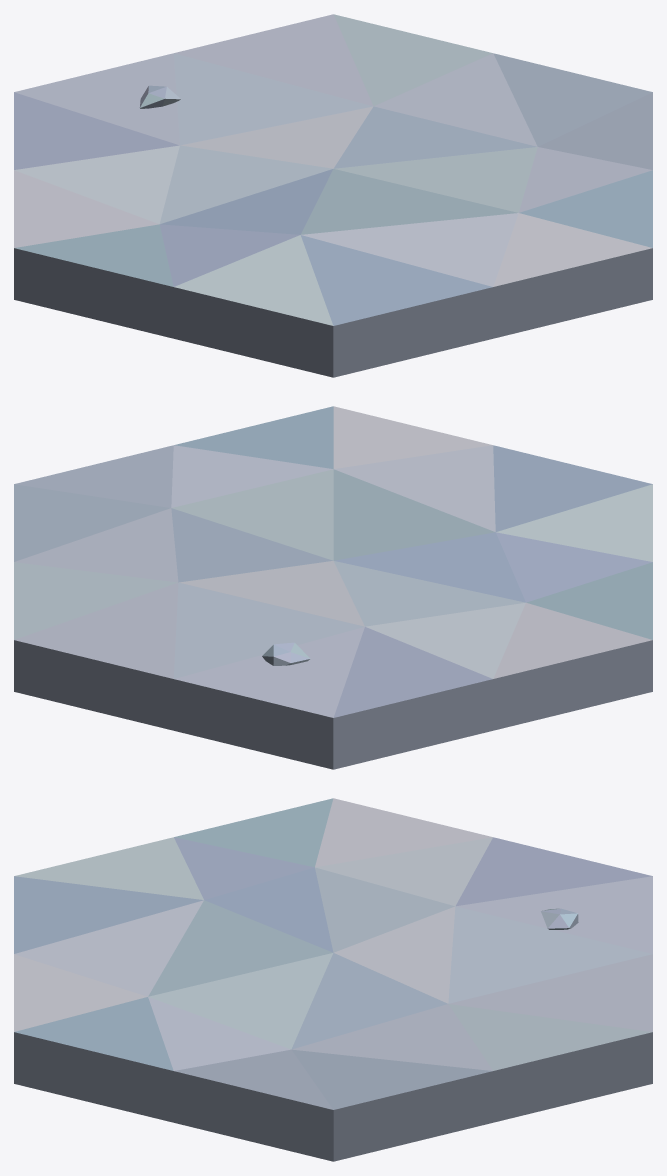
The model's file is Snow-Far.glb.
3 views of the same model, one above another, from view 1: azimuth 30°, elevation 25°; view 2: azimuth 150°, elevation 25°; view 3: azimuth 270°, elevation 25° (orthographic).
Visible parts, largest first — view 1: Snow-Far; view 2: Snow-Far; view 3: Snow-Far.
Boxes of the visible parts, x1,y1,x2,y2 form: Snow-Far: [14, 14, 652, 377]; Snow-Far: [14, 406, 652, 769]; Snow-Far: [14, 798, 652, 1161].
Size of the model in its own units: 1.94 by 0.1896 by 1.68.
